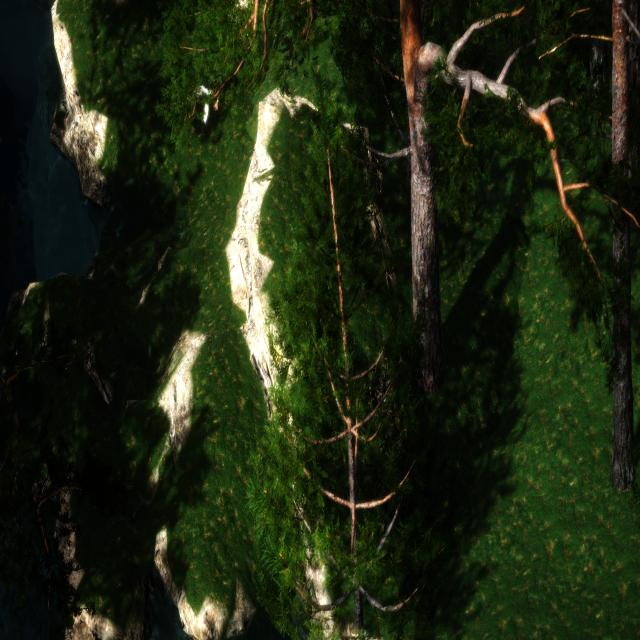Human: (186, 58, 227, 140)
